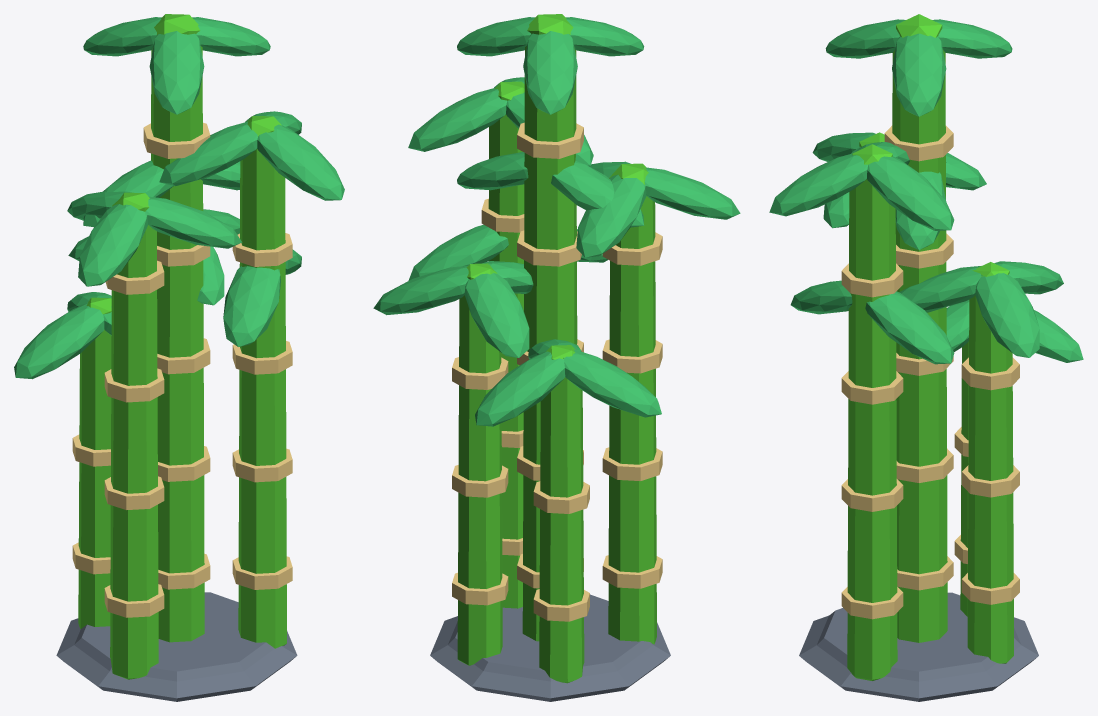
The model's file is Prop_ninja_village_BambooCluster.glb.
The picture shows the model from 3 angles, left to right: view 1: azimuth 30°, elevation 25°; view 2: azimuth 150°, elevation 25°; view 3: azimuth 270°, elevation 25°; orthographic projection.
Parts seen in each view (by area): view 1: Bamboo_5BD43A, LeafGreen_3FBF6A, Node_F4D58A, StoneDark_6B7686; view 2: Bamboo_5BD43A, LeafGreen_3FBF6A, Node_F4D58A, StoneDark_6B7686; view 3: Bamboo_5BD43A, LeafGreen_3FBF6A, Node_F4D58A, StoneDark_6B7686.
Part boxes in pixels (left/top/right/bottom): Bamboo_5BD43A: left=78, top=14, right=286, bottom=679; LeafGreen_3FBF6A: left=14, top=17, right=344, bottom=379; Node_F4D58A: left=72, top=122, right=292, bottom=617; StoneDark_6B7686: left=56, top=592, right=297, bottom=701; Bamboo_5BD43A: left=457, top=14, right=656, bottom=683; LeafGreen_3FBF6A: left=373, top=17, right=740, bottom=426; Node_F4D58A: left=452, top=122, right=662, bottom=621; StoneDark_6B7686: left=430, top=594, right=670, bottom=701; Bamboo_5BD43A: left=847, top=14, right=1013, bottom=680; LeafGreen_3FBF6A: left=769, top=19, right=1083, bottom=364; Node_F4D58A: left=841, top=125, right=1019, bottom=619; StoneDark_6B7686: left=799, top=592, right=1038, bottom=701.
Size of the model in its own units: 8.67 by 19.49 by 8.76.
